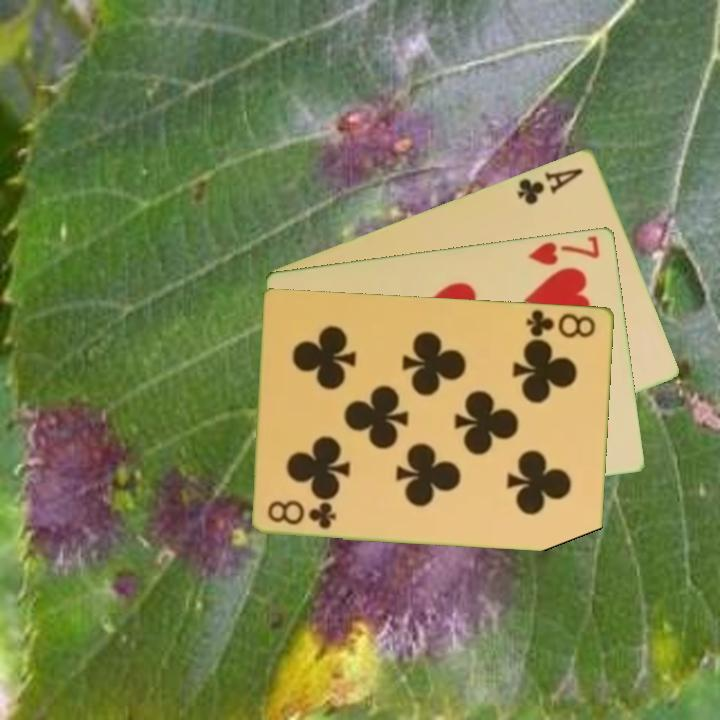7h: (525, 232, 603, 268)
8c: (523, 305, 599, 340), (264, 497, 339, 531)
Ac: (513, 164, 587, 207)
